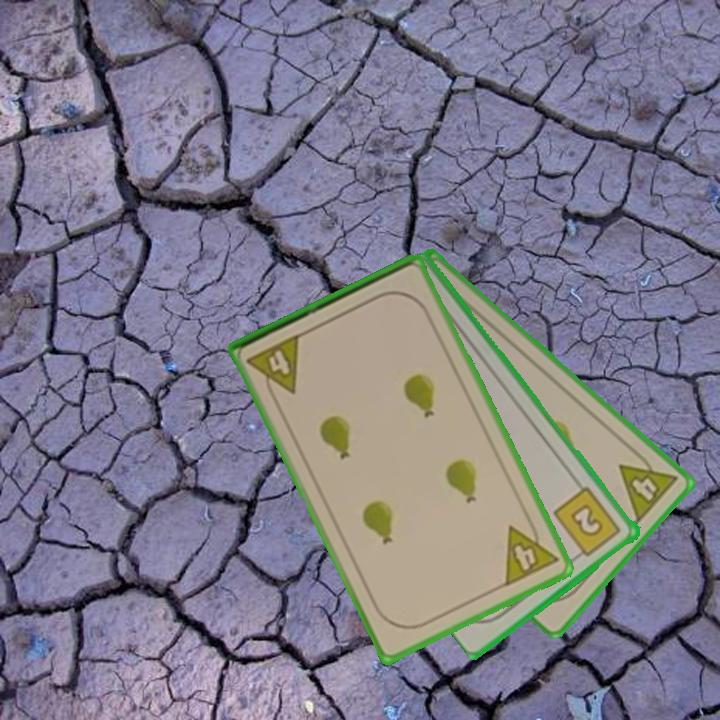2b: (550, 483, 625, 563)
4p: (615, 445, 681, 526), (501, 513, 561, 590), (243, 330, 304, 404)
